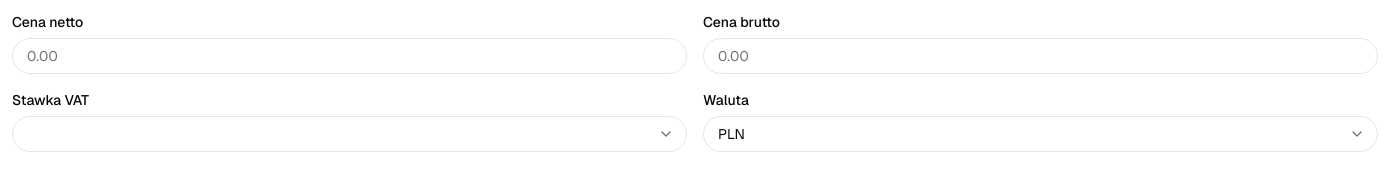
Test: components/product-dialog/Step2Price › automatycznie przelicza kwotę brutto po wpisaniu kwoty netto (VAT 23%)
This screenshot has width=1390, height=172.
In the field labelled "Cena netto": coordinates (350, 56) [12,38,687,74], type "100"
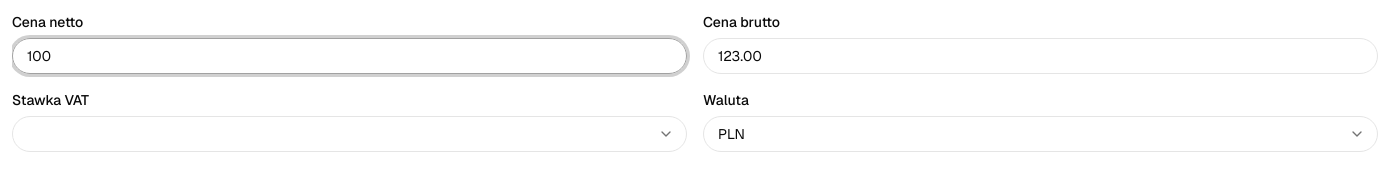
Result: the field labelled "Cena brutto" holds "123.00" at [703,38,1378,74]
